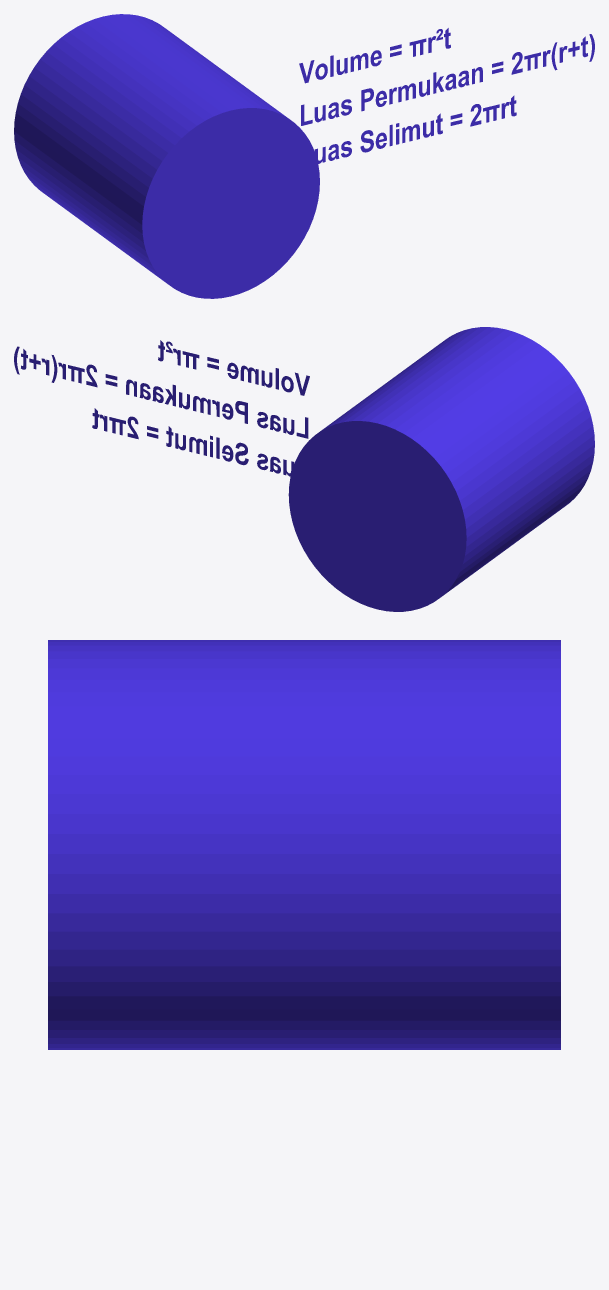
Rendered from tabung.glb.
3 renders of one model, top to bottom at view 1: azimuth 30°, elevation 25°; view 2: azimuth 150°, elevation 25°; view 3: azimuth 270°, elevation 25°, orthographic. The views are drawn at different scales.
Visible parts, largest first — view 1: world.003, Text.001; view 2: world.003, Text.001; view 3: world.003.
Part boxes in pixels (x1,y1,x2,y2): world.003: [14, 14, 319, 298]; Text.001: [299, 28, 594, 163]; world.003: [288, 327, 594, 611]; Text.001: [14, 340, 309, 476]; world.003: [48, 640, 560, 1049].
Bounding box in the file's own units: 2.33 × 0.8 × 1.
